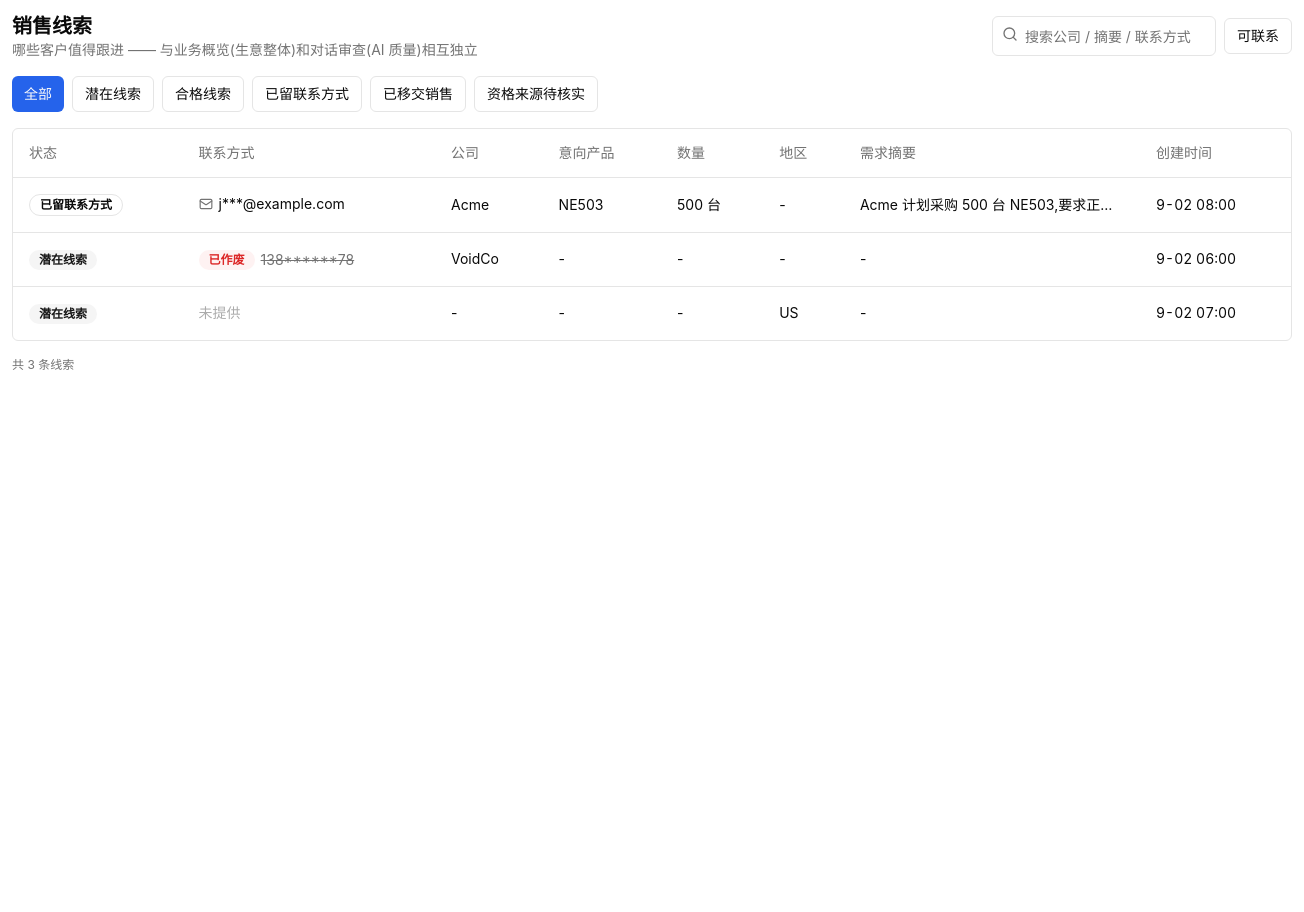
Test: SalesLeads page › shows voided badge and audit info, and hides void action for already voided lead
This screenshot has width=1304, height=912.
Click the 2nd row with test id "lead-row": {"x": 652, "y": 259} [13, 232, 1291, 286]
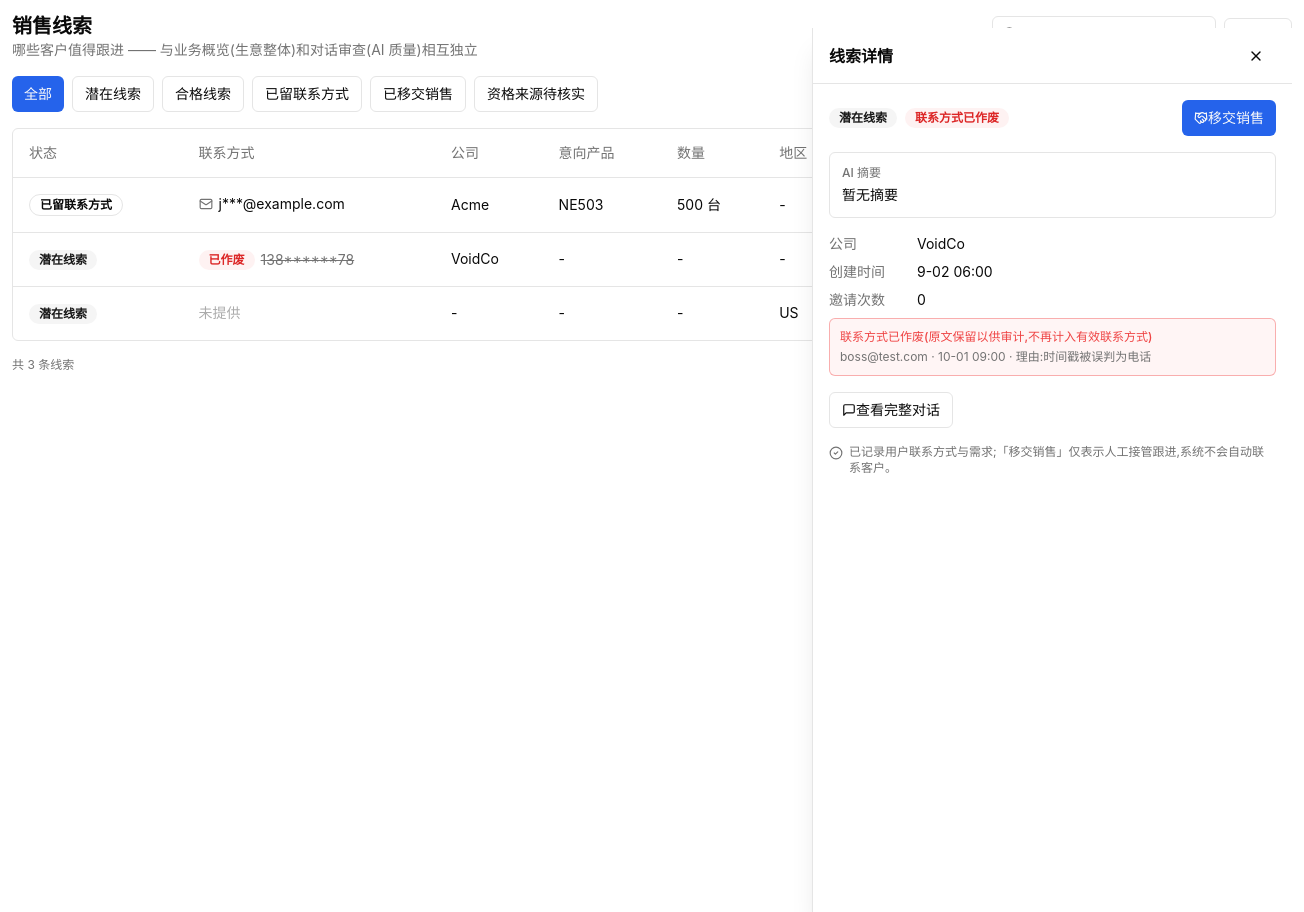
Check: the element with test id "lead-detail" is shown, box [812, 28, 1292, 911]
Check: the element with test id "contact-voided-audit" shows "boss@test.com", box [840, 349, 928, 364]
Check: the element with test id "contact-voided-audit" shows "时间戳被误判为电话", box [1006, 349, 1151, 364]
